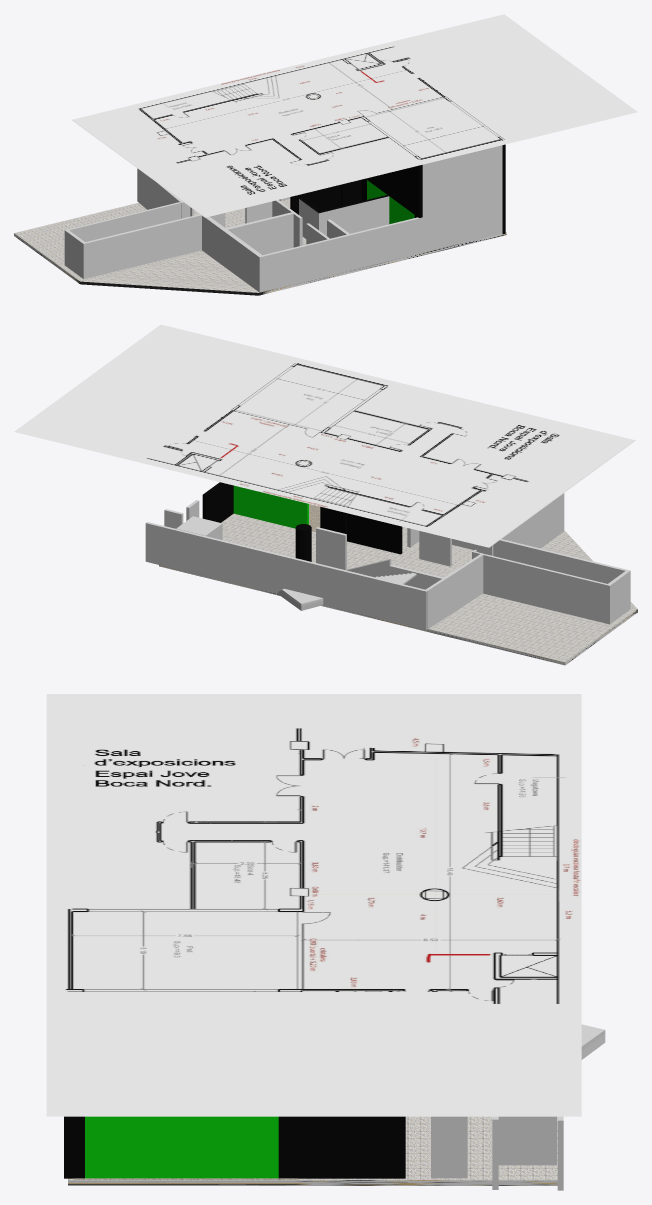
File: bocanord-0.3.glb
The picture shows the model from 3 angles, top to bottom: view 1: azimuth 30°, elevation 25°; view 2: azimuth 150°, elevation 25°; view 3: azimuth 270°, elevation 25°; orthographic projection. The views are drawn at different scales.
Visible parts, largest first — view 1: WhatsApp Image 2021-10-09 at 08.57.33, south-wall-patio, floor, south-wall-bucs, south-wall-east, left-wall, south-wall-pasillo-sales; view 2: WhatsApp Image 2021-10-09 at 08.57.33, floor, north-wall, south-wall-bucs, left-wall, south-wall-east, south-wall-glass, south-wall-patio, default-wall, ladder-wall, east-wall, south-wall-pasillo-sales (+2 smaller); view 3: WhatsApp Image 2021-10-09 at 08.57.33, east-wall, floor, elevator, east-wall-rocodrom.
Part boxes in pixels (x1,y1,x2,y2): WhatsApp Image 2021-10-09 at 08.57.33: (72, 14, 637, 217); south-wall-patio: (202, 145, 501, 292); floor: (14, 199, 506, 295); south-wall-bucs: (64, 202, 225, 278); south-wall-east: (290, 165, 422, 238); left-wall: (138, 169, 193, 218); south-wall-pasillo-sales: (245, 200, 302, 245); WhatsApp Image 2021-10-09 at 08.57.33: (14, 324, 635, 547); floor: (159, 513, 637, 665); north-wall: (145, 522, 427, 629); south-wall-bucs: (473, 539, 630, 624); left-wall: (425, 549, 484, 628); south-wall-east: (320, 506, 419, 554); south-wall-glass: (233, 485, 308, 528); south-wall-patio: (452, 493, 564, 549); default-wall: (316, 527, 346, 569); ladder-wall: (345, 559, 443, 589); east-wall: (202, 482, 233, 522); south-wall-pasillo-sales: (419, 531, 451, 566); WhatsApp Image 2021-10-09 at 08.57.33: (46, 694, 581, 1116); east-wall: (64, 1116, 405, 1178); floor: (68, 1116, 557, 1185); elevator: (498, 1116, 556, 1165); east-wall-rocodrom: (431, 1116, 467, 1178).
Bounding box in the file's own units: 36.94 × 6.84 × 18.
Materials: 6 (3 with a texture image).
